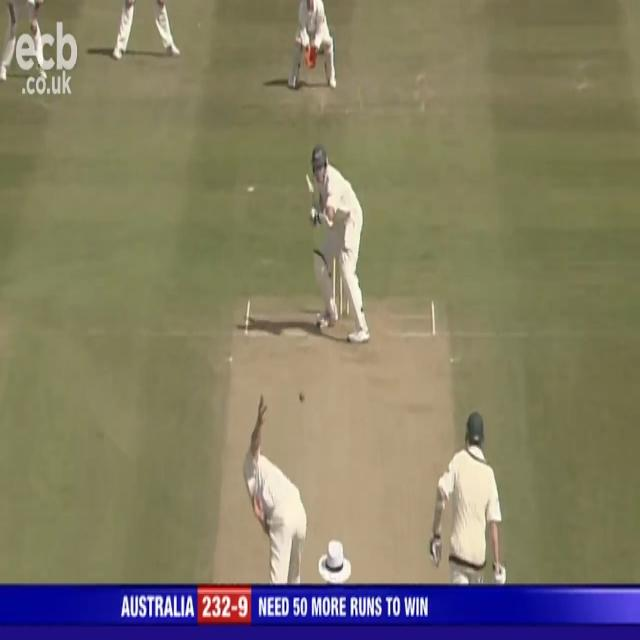ball: (296, 388, 306, 404)
